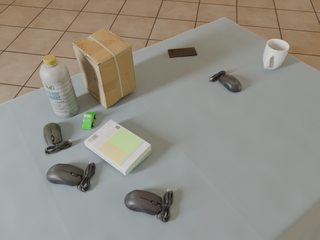book: (84, 120, 151, 175)
bottle: (40, 55, 79, 118)
box: (73, 27, 136, 108)
cup: (263, 39, 289, 70)
mouse: (124, 189, 173, 222), (47, 161, 95, 192), (43, 123, 71, 154), (210, 71, 241, 92)
phone: (168, 47, 197, 58)
toy_car: (82, 112, 96, 129)
